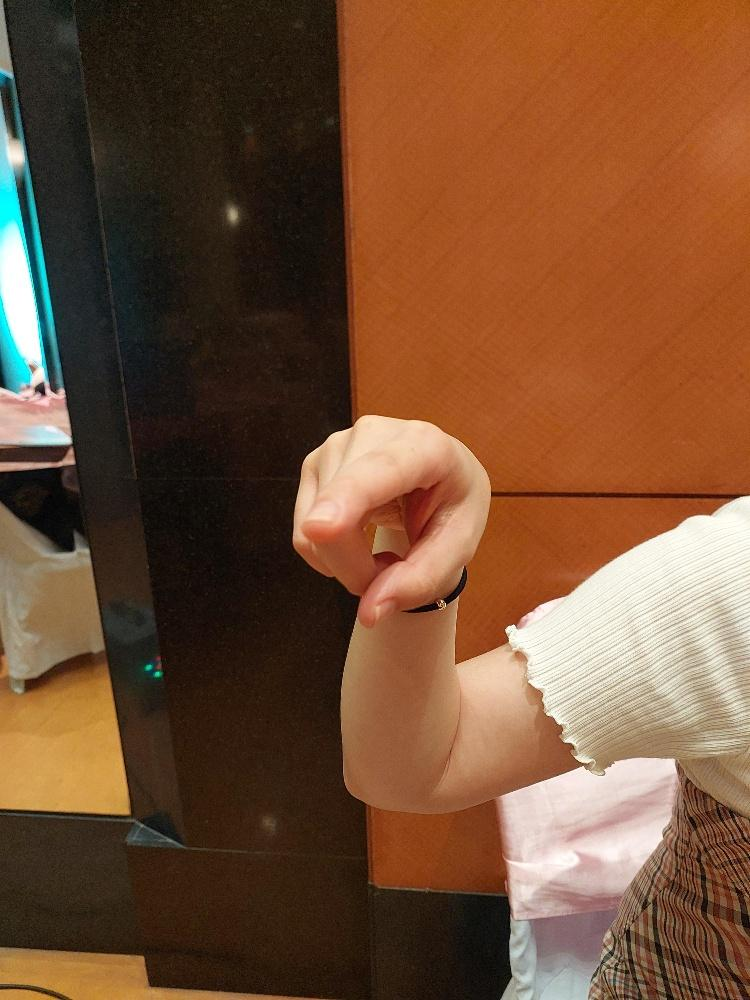z: (289, 411, 498, 629)
